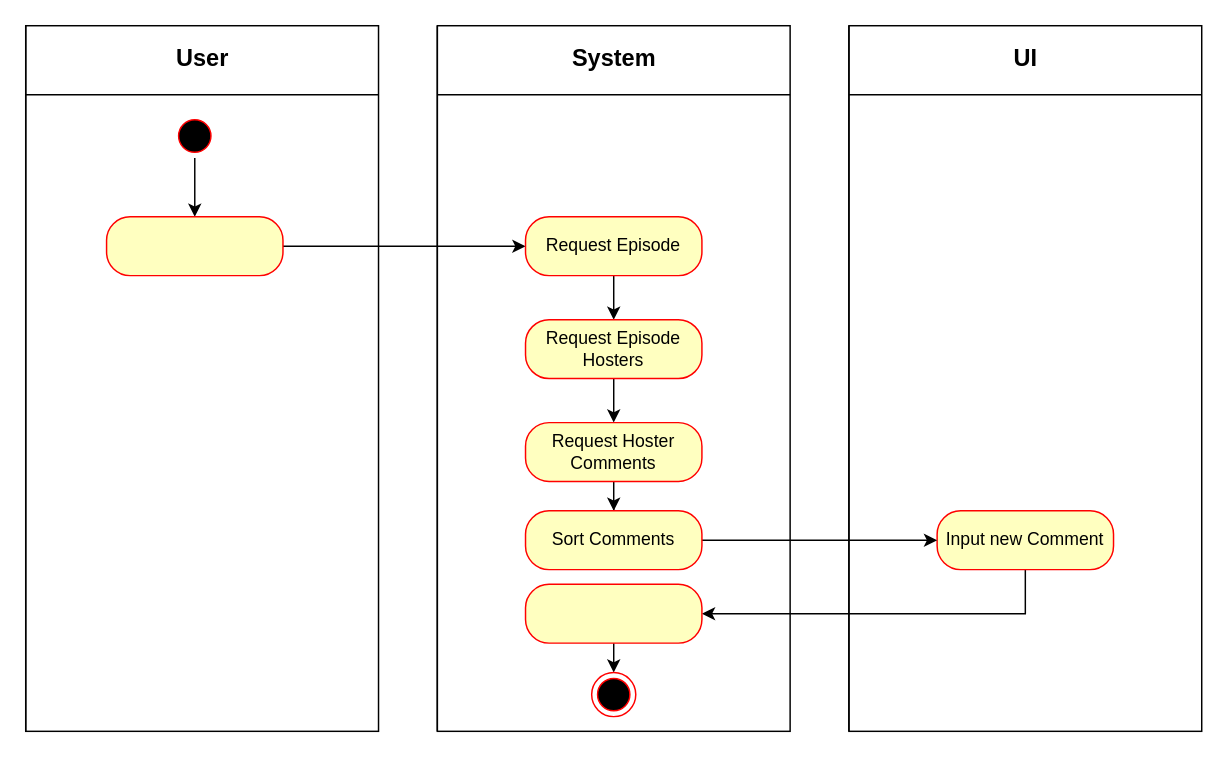
Some shapes in this 1227 by 757 pixel diagram are drawn without their labels. The shapes that lost their labels are listed below. From the top down, each one's centre as x and y in pixels, then its label:
At point 194,245: "Opens Episode Box".
At point 613,613: "Update Comments".
